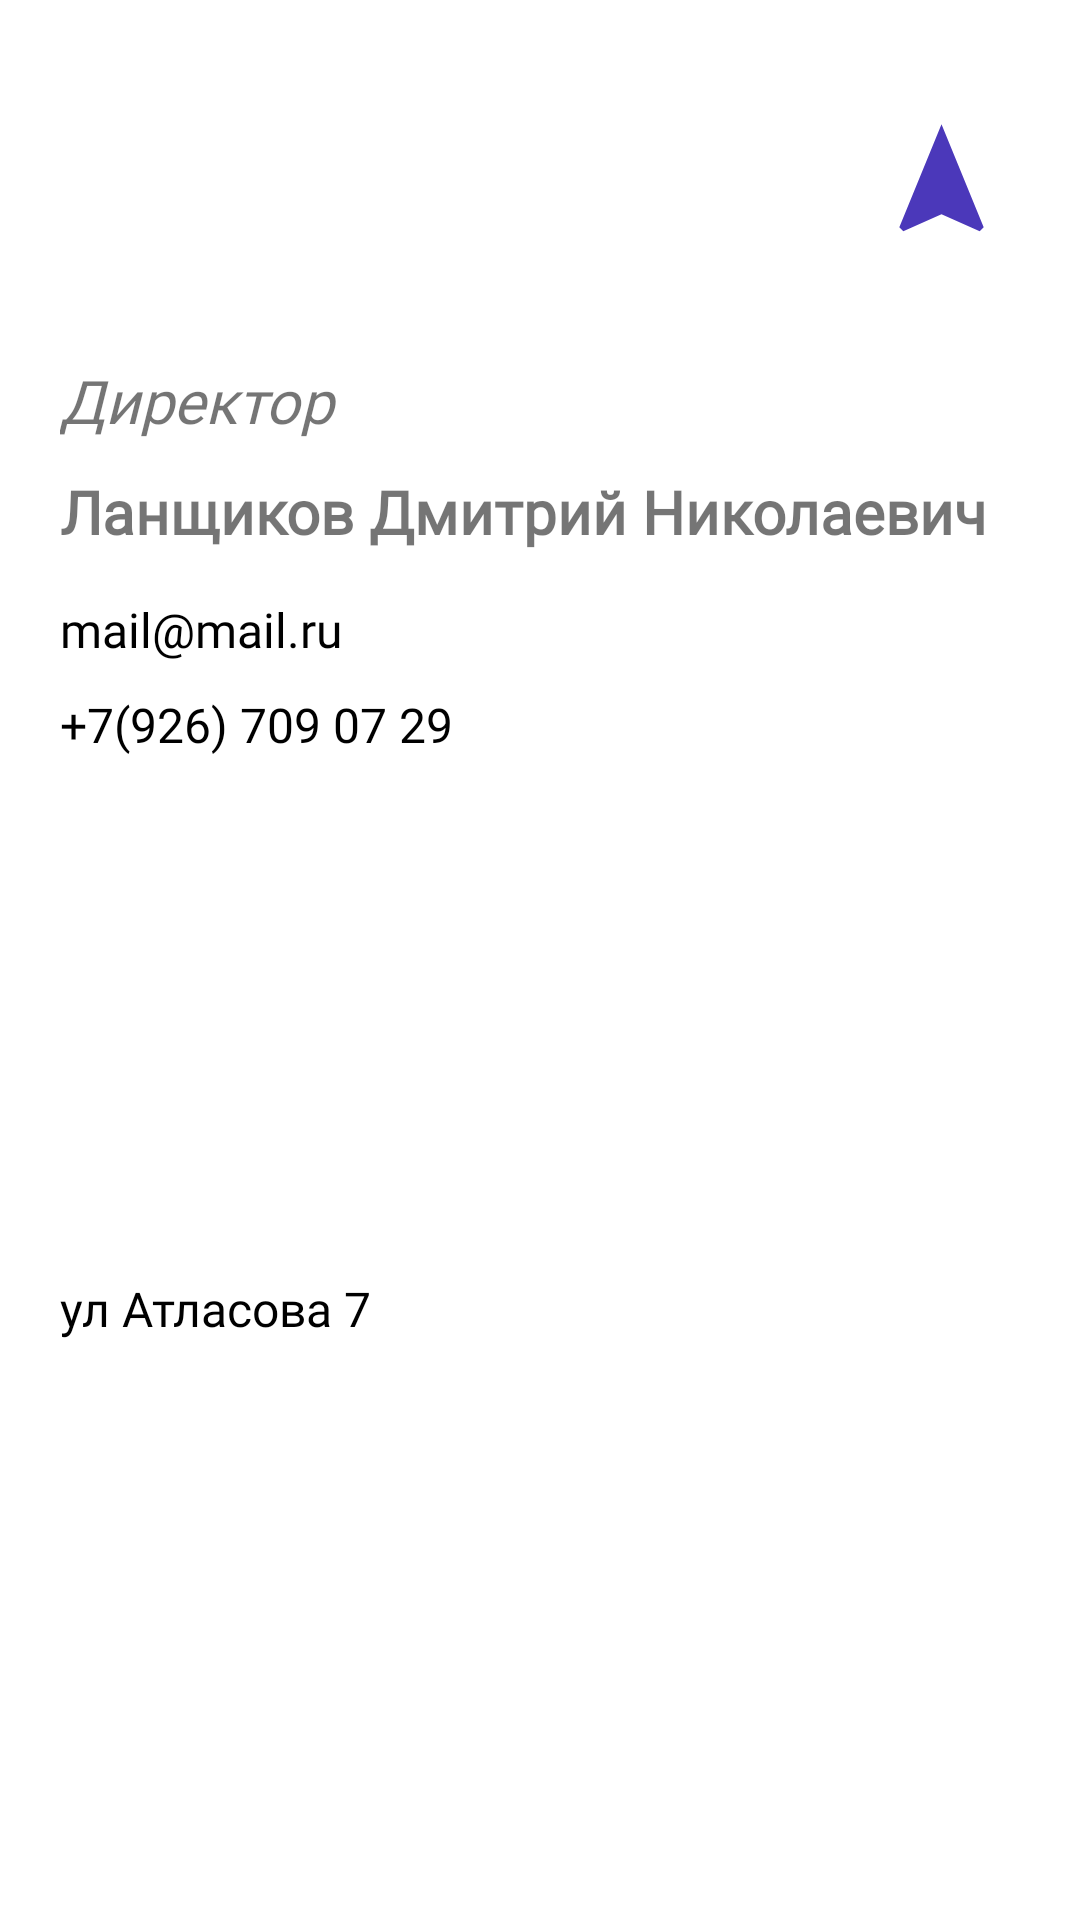

Icons on this 1080px x 1920px Android screen, each with the point to tap as (x=x, y=y):
navigation: (x=941, y=177)
